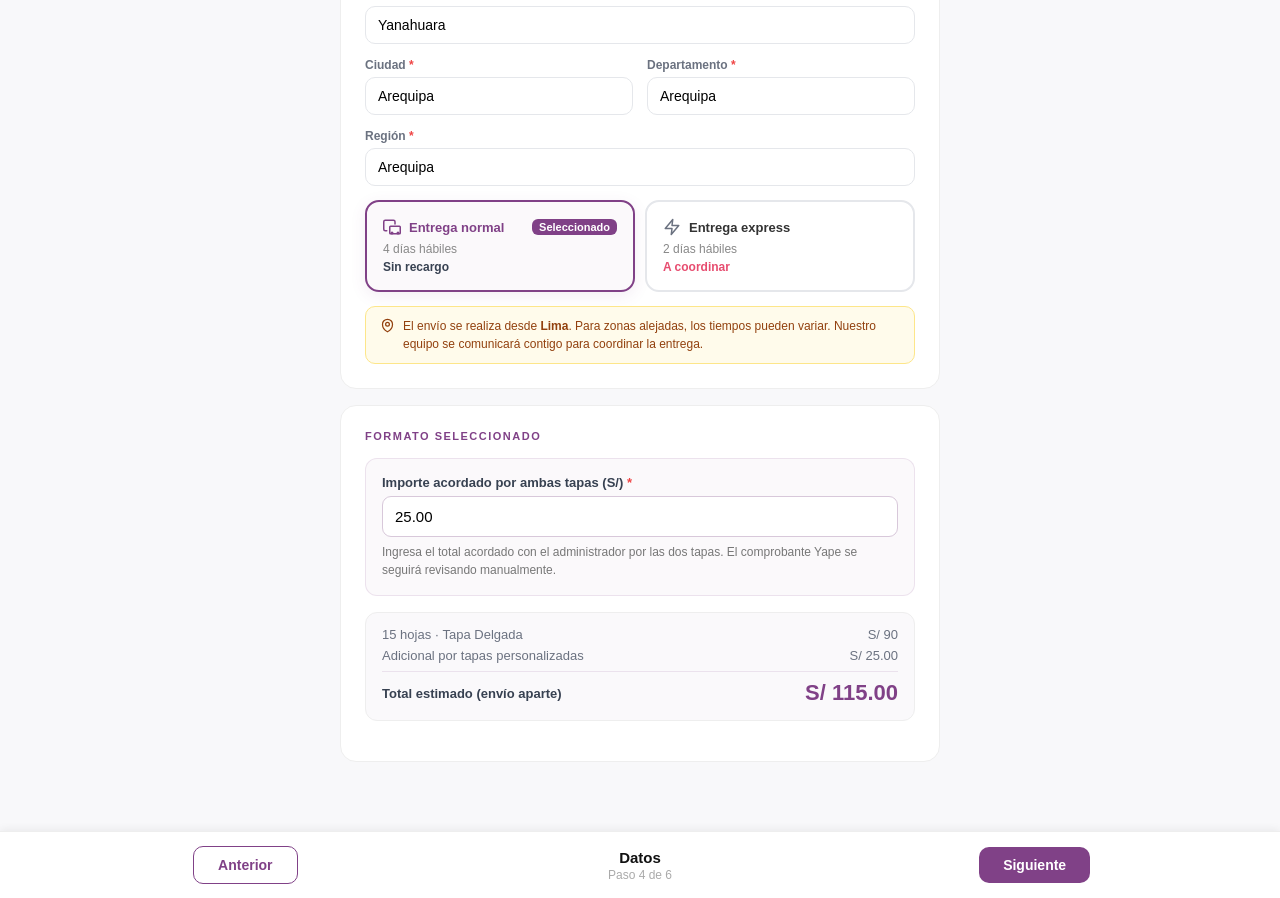
Scenario: PhotobookEditorClient characterization › restores and recalculates the agreed custom-cover surcharge in the order form
(page scrolled)
expect the text "S/ 115.00" is shown: met, box [805,680,898,706]
Step 1. Replace the text in the field labelled "Importe acordado por ambas tapas (S/) *" with "30.50" → (640, 516), box [382,496,898,537]
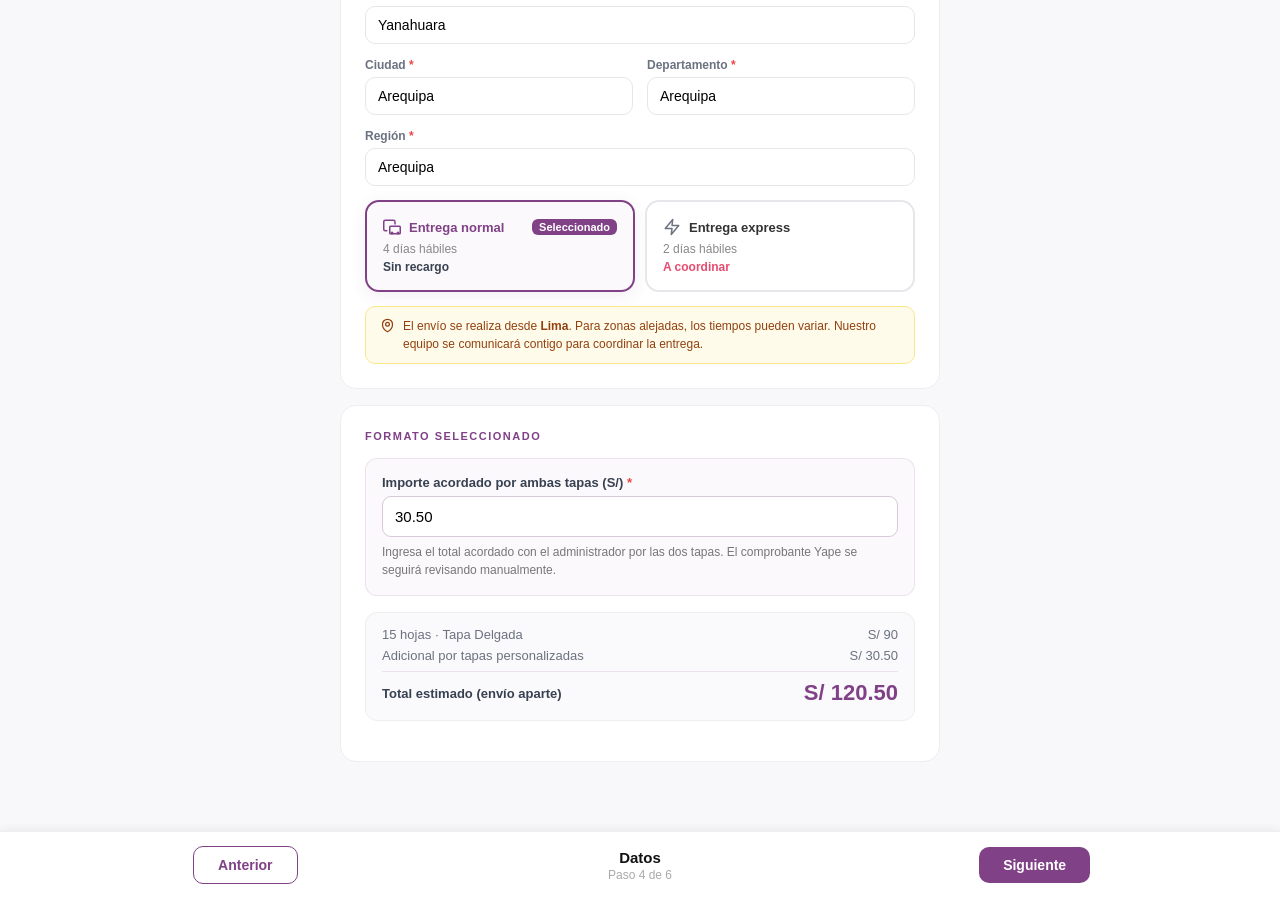
expect the text "S/ 120.50" is shown: met, box [804,680,898,706]
